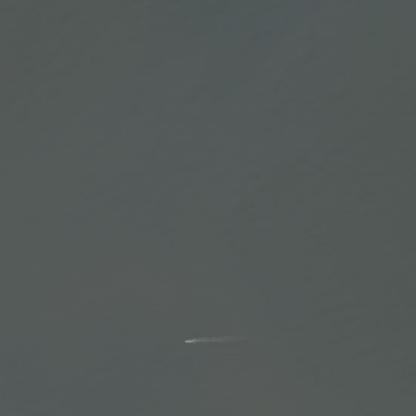ship: (17, 336, 30, 344)
